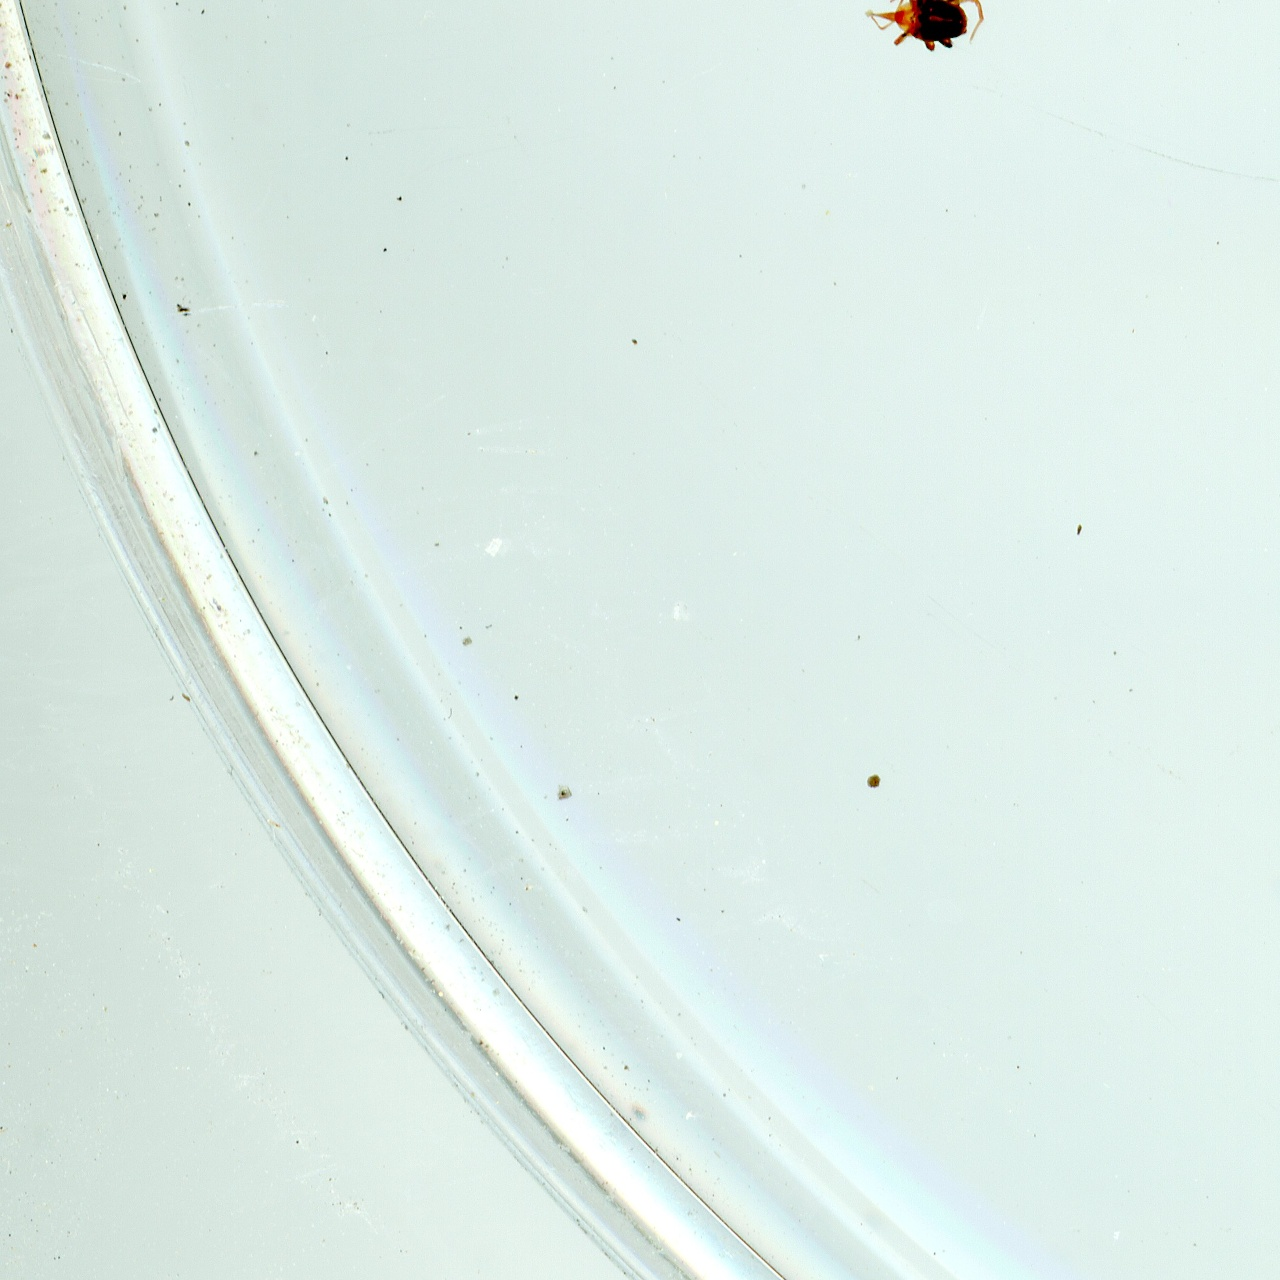arthropod: (862, 0, 990, 57)
